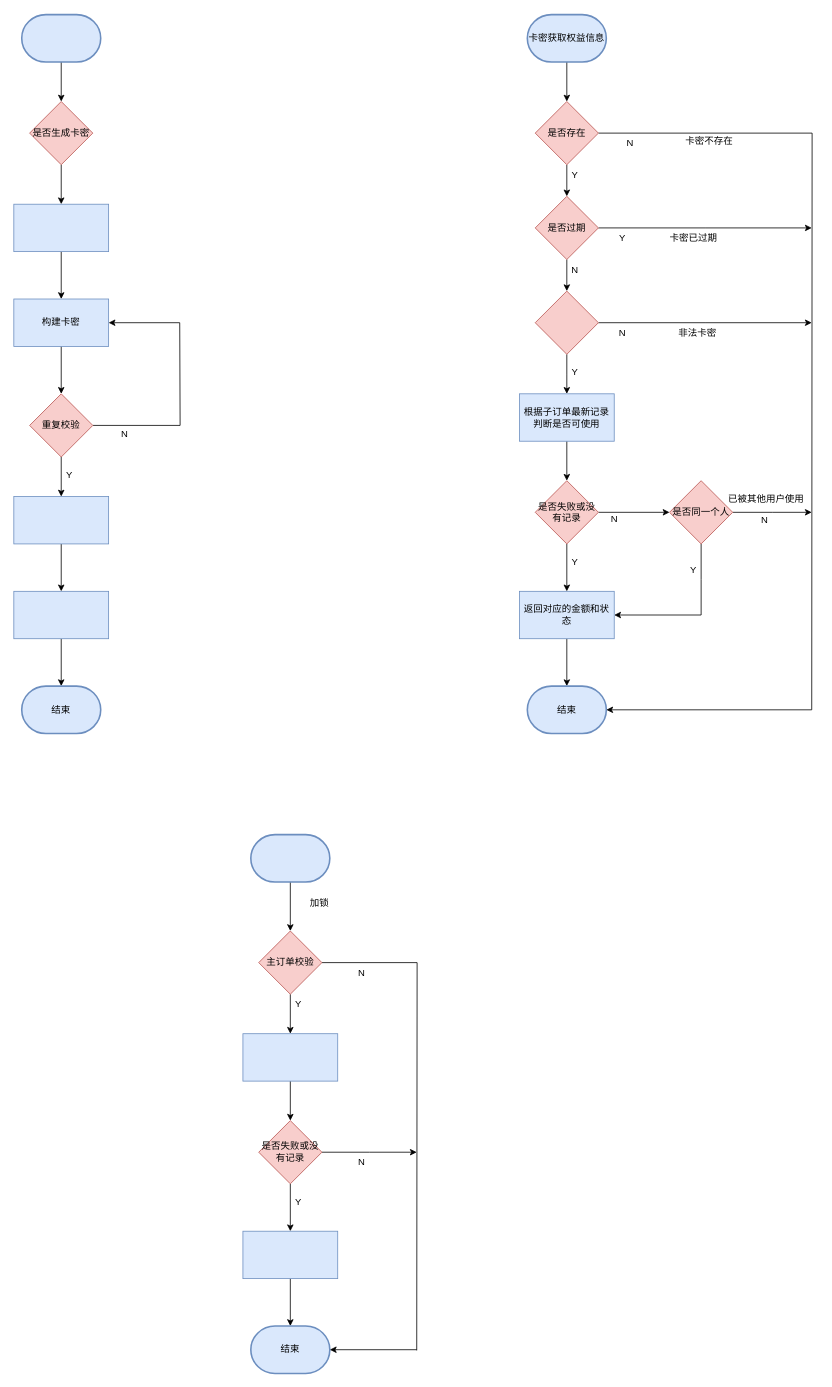
Image size: 832x1387. Some labels were removed from this diagram. Here are the shapes that lost their labels. From the top down, the centre of each, then its label:
At (x=61, y=37): "开始下单".
At (x=61, y=227): "接收业务唯一id".
At (x=566, y=322): "主订单是否存在".
At (x=61, y=520): "卡密表添加一条记录".
At (x=61, y=615): "卡密业务表绑定卡密和业务订单的关系".
At (x=290, y=857): "领取".
At (x=290, y=1057): "根据子订单最新记录判断是否可投放".
At (x=290, y=1254): "保存使用记录并开始投放".
